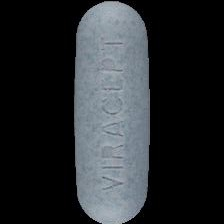55289-477: (0, 0, 224, 224)
